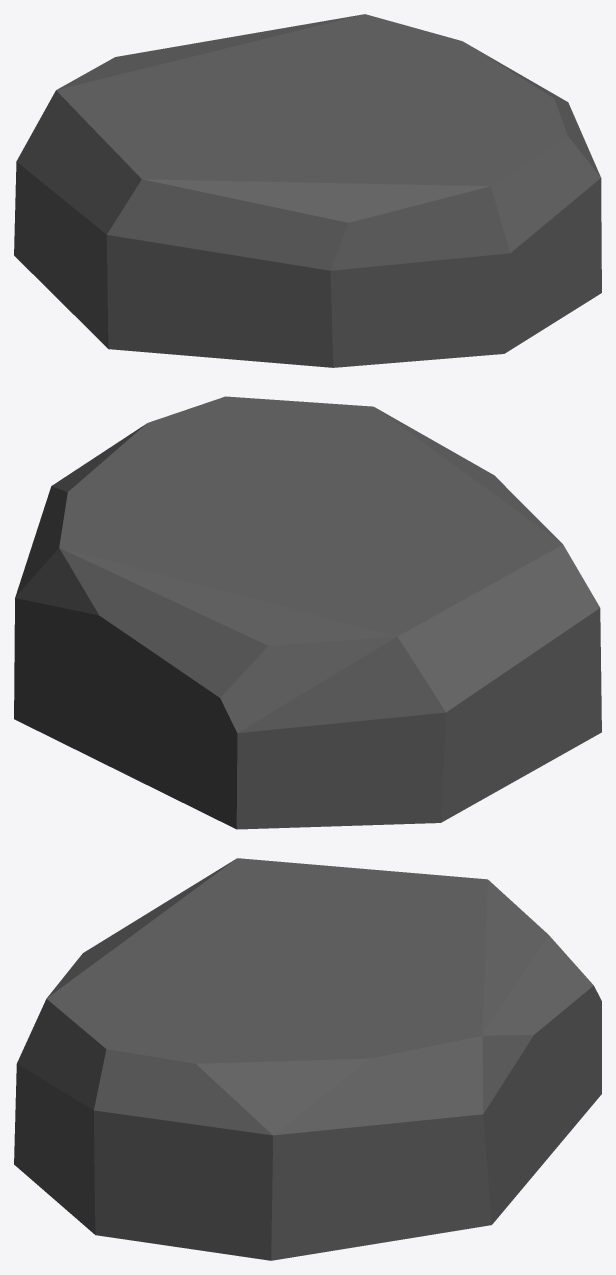
Rendered from Stone 2.fbx.
3 renders of one model, top to bottom at view 1: azimuth 30°, elevation 25°; view 2: azimuth 150°, elevation 25°; view 3: azimuth 270°, elevation 25°, orthographic. The views are drawn at different scales.
Visible parts, largest first — view 1: Stone 2; view 2: Stone 2; view 3: Stone 2.
Part boxes in pixels (left/top/right/bottom): Stone 2: left=14, top=14, right=601, bottom=367; Stone 2: left=14, top=396, right=601, bottom=829; Stone 2: left=14, top=858, right=601, bottom=1260.
Bounding box in the file's own units: 55.23 × 17.8 × 55.17.
